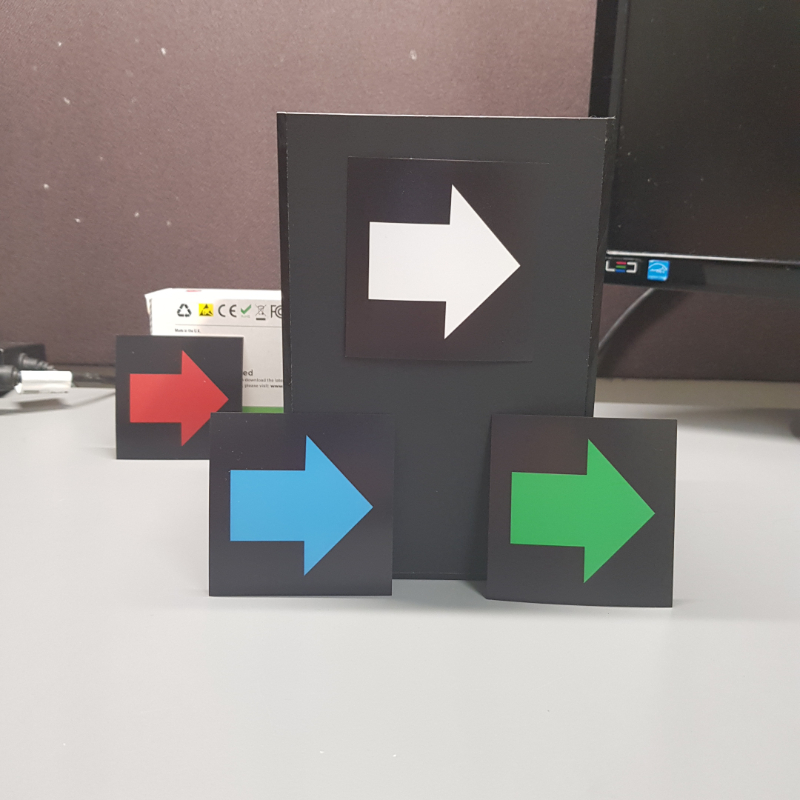LA-4: (214, 418, 390, 589)
RA-3: (498, 423, 670, 597)
UA-1: (354, 164, 525, 354)
